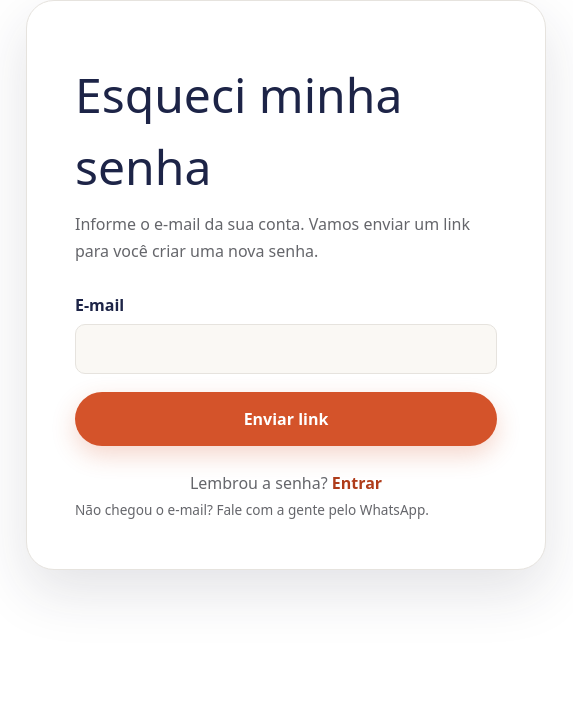
Scenario: esqueci minha senha › mesmo se o servidor recusar, não revela se o e-mail existe
Type "nao@existe.com" into the field labelled "E-mail".
click(286, 349); type("nao@existe.com")  # box x1=75 y1=324 x2=497 y2=374
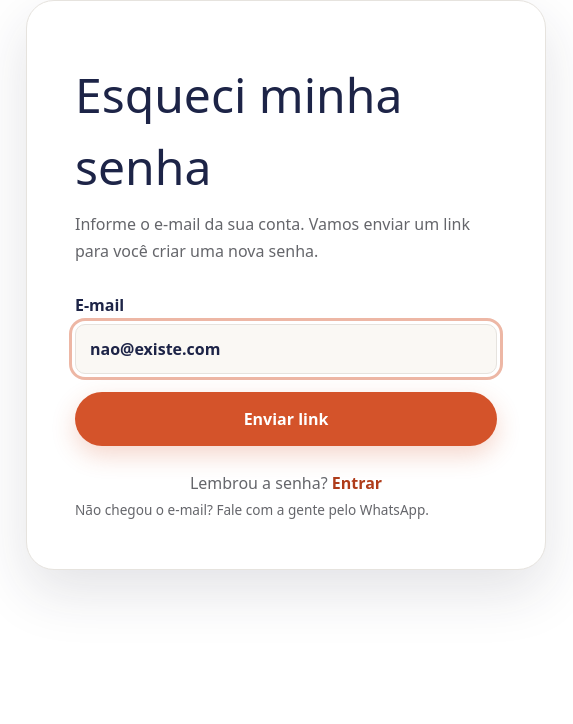
Click the button "Enviar link".
click(286, 419)  # box x1=75 y1=392 x2=497 y2=446
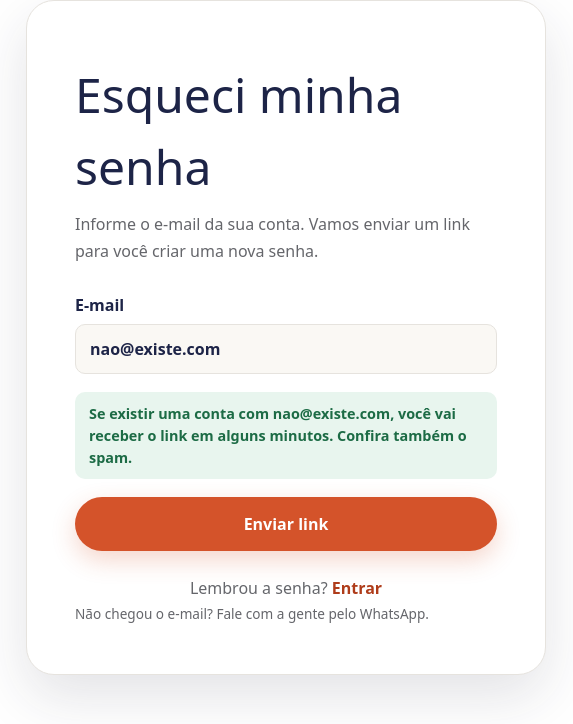
Now the message shows "Se existir uma conta", box x1=89 y1=404 x2=467 y2=467
